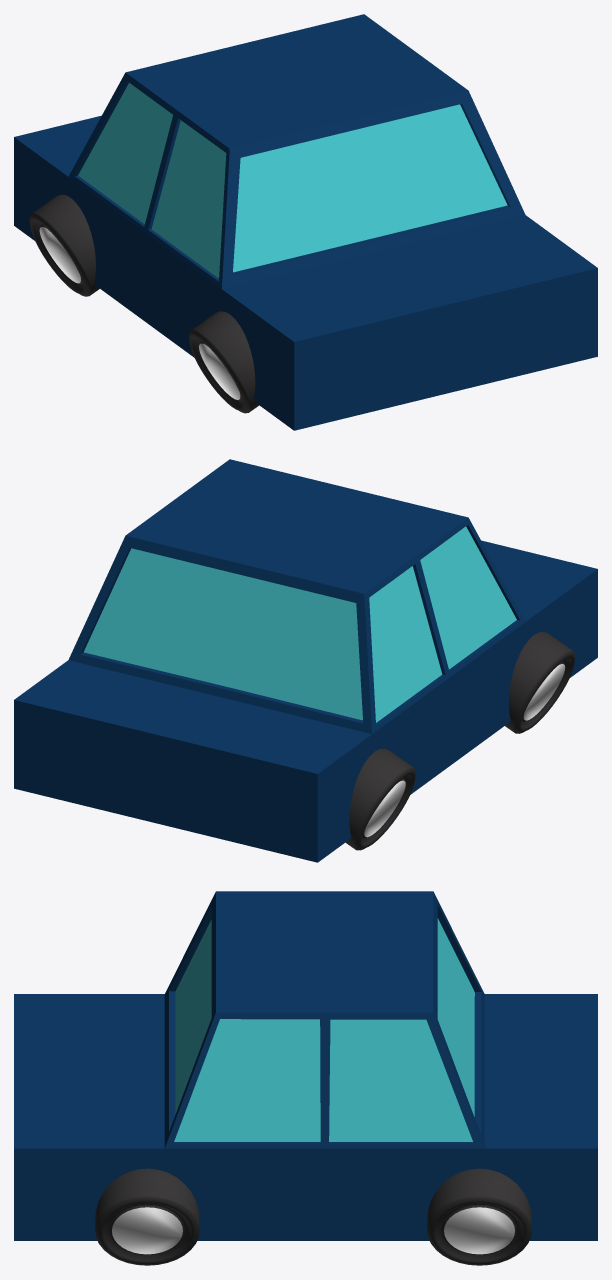
File: AutoJuegoAzul.fbx
3 renders of one model, top to bottom at view 1: azimuth 30°, elevation 25°; view 2: azimuth 150°, elevation 25°; view 3: azimuth 270°, elevation 25°, orthographic. The views are drawn at different scales.
Visible parts, largest first — view 1: Cube; view 2: Cube; view 3: Cube.
Boxes of the visible parts, box(x1,y1,x2,y2) form: Cube: box(14, 14, 597, 430); Cube: box(14, 459, 597, 862); Cube: box(14, 891, 597, 1265).
Bounding box in the file's own units: 609 × 370 × 818.
Materials: 2 (1 with a texture image).
